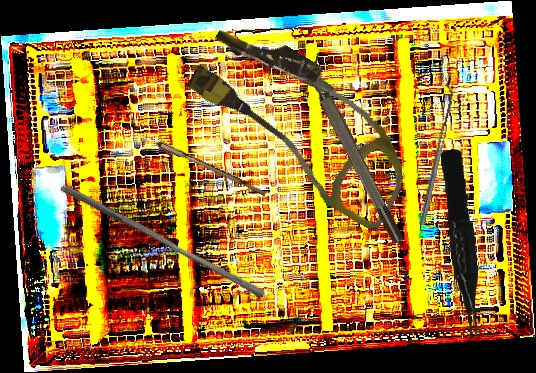Cannula: (171, 11, 435, 234)
Fixation Ring: (292, 52, 408, 251)
Pusher: (54, 182, 271, 300)
Spatula Surgical: (413, 82, 458, 226)
Surgical Spoon: (119, 124, 268, 196)
Tissue Forceps: (440, 148, 483, 340)
